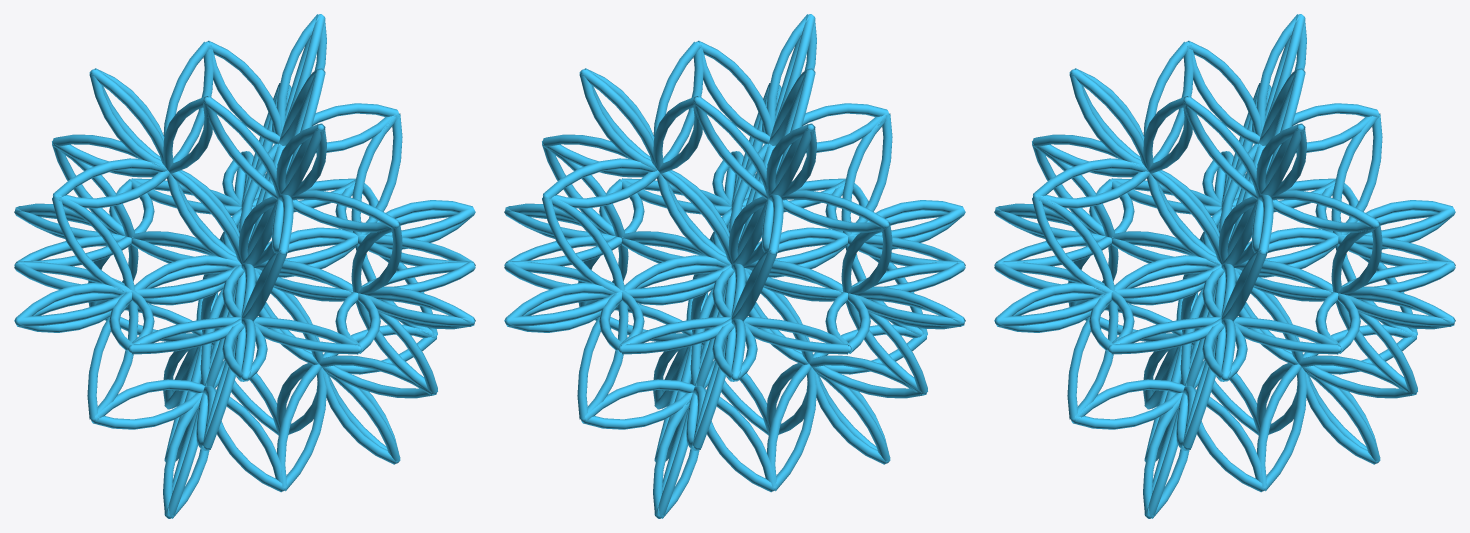
File: floweroflifesnowflake3d.glb
3 views of the same model, side by side, from view 1: azimuth 30°, elevation 25°; view 2: azimuth 150°, elevation 25°; view 3: azimuth 270°, elevation 25° (orthographic).
Visible parts, largest first — view 1: Mesh_0.010, Mesh_0.009, Mesh_0.052, Mesh_0.047, Mesh_0.037, Mesh_0.013, Mesh_0.029, Mesh_0.006, Mesh_0.090, Mesh_0.166, Mesh_0.036, Mesh_0.033 (+91 smaller); view 2: Mesh_0.145, Mesh_0.107, Mesh_0.003, Mesh_0.104, Mesh_0.041, Mesh_0.108, Mesh_0.111, Mesh_0.135, Mesh_0.043, Mesh_0.131, Mesh_0.160, Mesh_0.138 (+90 smaller); view 3: Mesh_0.096, Mesh_0.059, Mesh_0.058, Mesh_0.101, Mesh_0.086, Mesh_0.141, Mesh_0.062, Mesh_0.078, Mesh_0.055, Mesh_0.139, Mesh_0.150, Mesh_0.082 (+92 smaller).
Boxes of the visible parts, x1,y1,x2,y2 form: Mesh_0.010: (53, 158, 167, 197); Mesh_0.009: (52, 197, 132, 292); Mesh_0.052: (205, 96, 280, 197); Mesh_0.047: (285, 366, 326, 491); Mesh_0.037: (58, 195, 135, 290); Mesh_0.013: (91, 392, 202, 429); Mesh_0.029: (277, 364, 321, 487); Mesh_0.006: (207, 40, 282, 136); Mesh_0.090: (204, 104, 277, 199); Mesh_0.166: (131, 318, 241, 354); Mesh_0.036: (15, 282, 131, 320); Mesh_0.033: (95, 379, 205, 420); Mesh_0.145: (775, 366, 816, 491); Mesh_0.107: (542, 197, 622, 292); Mesh_0.003: (694, 96, 770, 197); Mesh_0.104: (697, 40, 773, 136); Mesh_0.041: (693, 103, 767, 199); Mesh_0.108: (543, 158, 656, 198); Mesh_0.111: (581, 392, 692, 429); Mesh_0.135: (548, 197, 625, 290); Mesh_0.043: (582, 69, 658, 169); Mesh_0.131: (585, 379, 695, 420); Mesh_0.160: (621, 318, 731, 354); Mesh_0.138: (579, 73, 657, 170); Mesh_0.096: (1265, 366, 1306, 491); Mesh_0.059: (1033, 158, 1148, 197); Mesh_0.058: (1032, 197, 1112, 292); Mesh_0.101: (1185, 96, 1260, 197); Mesh_0.086: (1038, 195, 1115, 290); Mesh_0.141: (1072, 69, 1148, 170); Mesh_0.062: (1071, 392, 1182, 429); Mesh_0.078: (1257, 364, 1301, 487); Mesh_0.055: (1187, 40, 1261, 136); Mesh_0.139: (1184, 105, 1257, 199); Mesh_0.150: (1111, 318, 1221, 354); Mesh_0.082: (1075, 379, 1185, 420).
Bounding box in the file's own units: 6.09 × 5 × 5.3.
